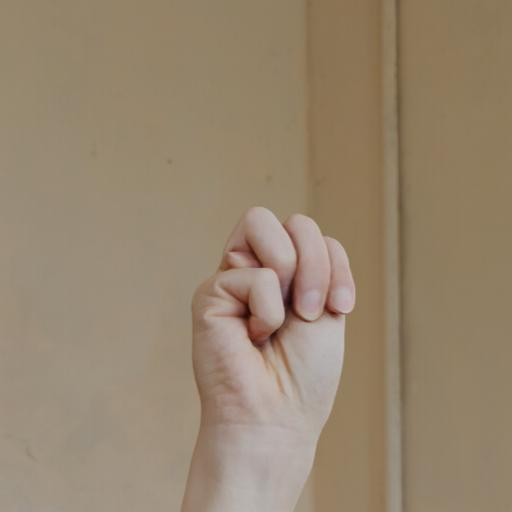M: (177, 184, 399, 512)
